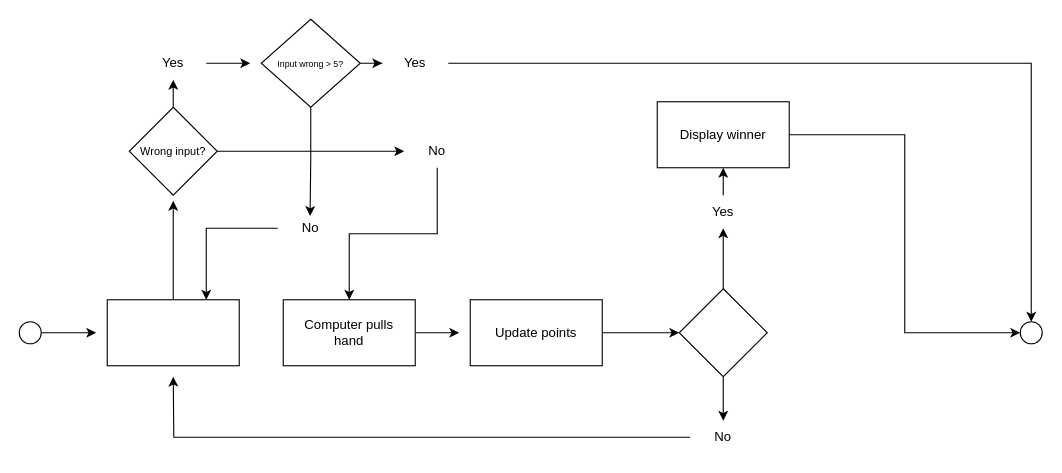
The diagram is 1062 pixels wide and 473 high, and some of its shapes have lost their labels. Here are the shapes that lost their labels. From the top down, the centre of each, then its label:
At (172,332): "Player input".
At (722,332): "Points = 5?".
